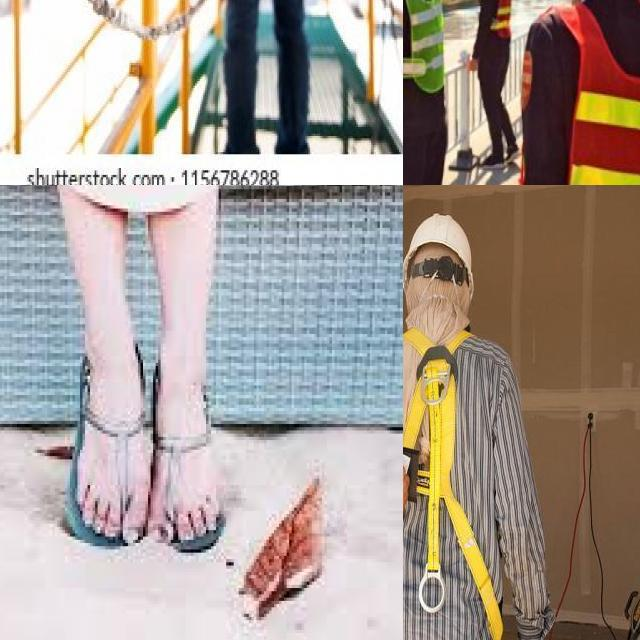Harness: (403, 328, 504, 640)
Sandals: (36, 316, 243, 576)
hand_noglove: (465, 49, 481, 76)
person: (522, 0, 640, 185), (403, 0, 464, 185), (468, 0, 521, 163)
vest: (523, 3, 640, 185), (403, 0, 448, 108), (476, 0, 518, 38)
